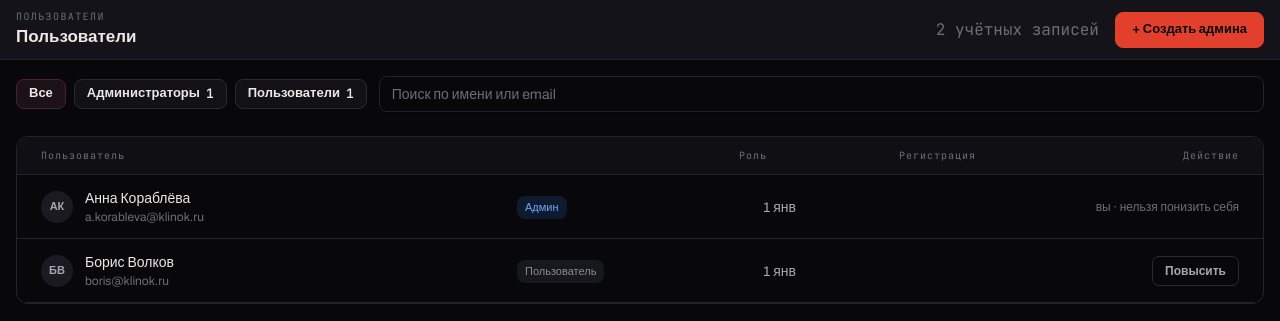
Test: UsersScreen › searches by name/email substring (AC-5)
The image size is (1280, 321).
Type "КОРАБ" into the search field labelled "Поиск по имени или email" at (821, 94), box [379, 76, 1264, 112]
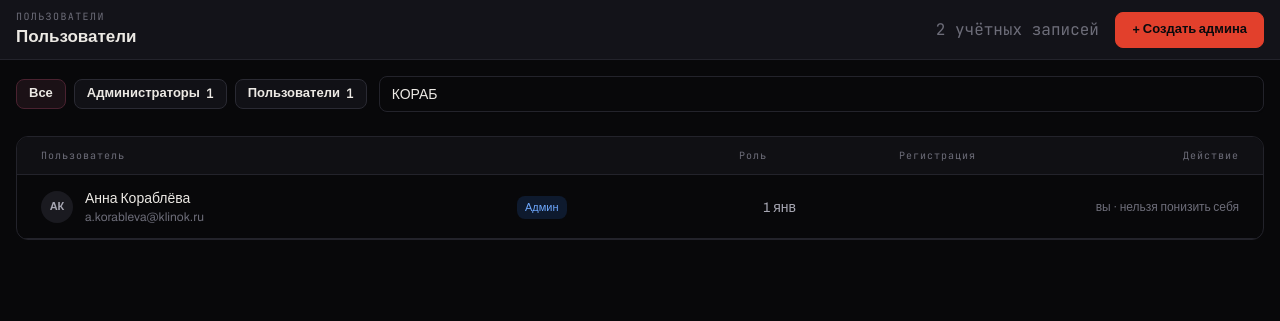
Expected: the text "Анна Кораблёва" is shown, [85, 188, 204, 208]
Expected: the text "Борис Волков" is gone
